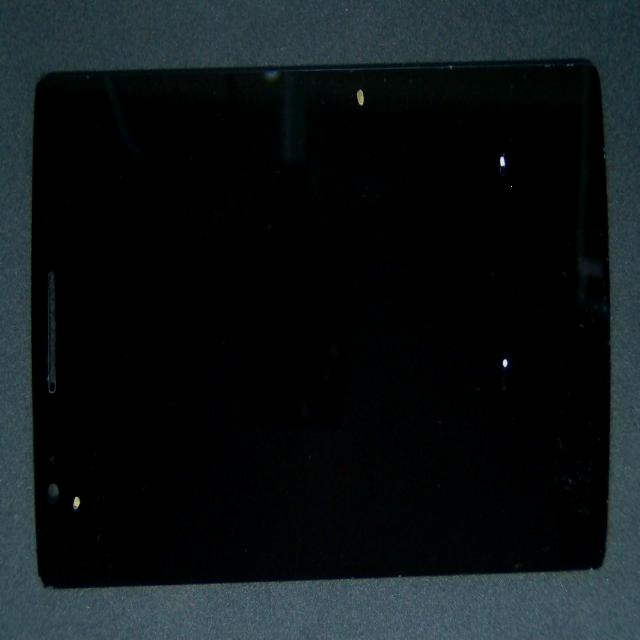stain: (213, 203, 640, 567), (272, 58, 640, 210), (32, 274, 98, 640)
